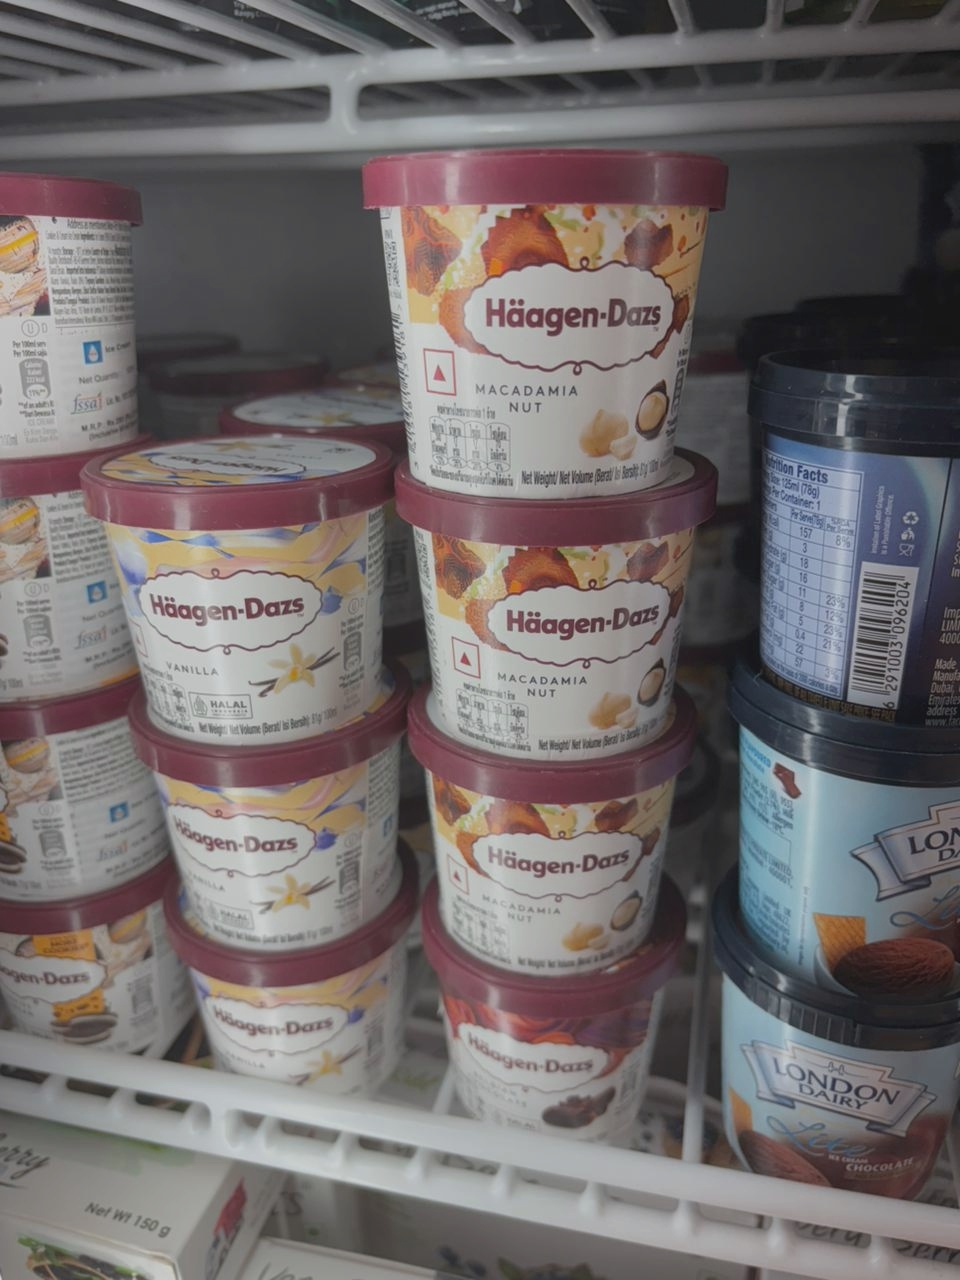Haagen-Dazs IceCream Tub: (326, 134, 752, 495), (73, 430, 396, 751), (385, 661, 692, 997), (401, 421, 701, 754), (405, 850, 679, 1146), (117, 700, 405, 954), (128, 884, 406, 1131), (0, 157, 152, 483), (0, 869, 193, 1086), (0, 462, 157, 699), (0, 685, 179, 893)
